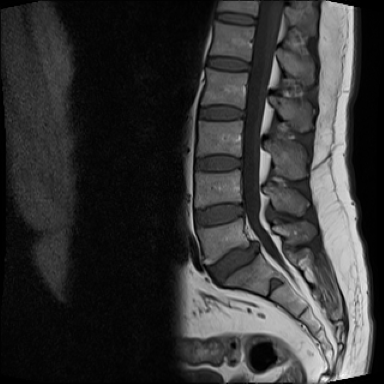Lumbar Disc Bulge (LDB): (188, 290, 252, 337), (179, 251, 244, 283), (179, 205, 243, 226), (189, 154, 243, 175)
Normal IVD: (198, 101, 248, 127), (208, 58, 255, 79), (217, 17, 262, 34)
Spinal Stenosis (SS): (235, 288, 250, 310), (227, 250, 243, 270), (229, 157, 244, 178), (230, 206, 242, 223)
